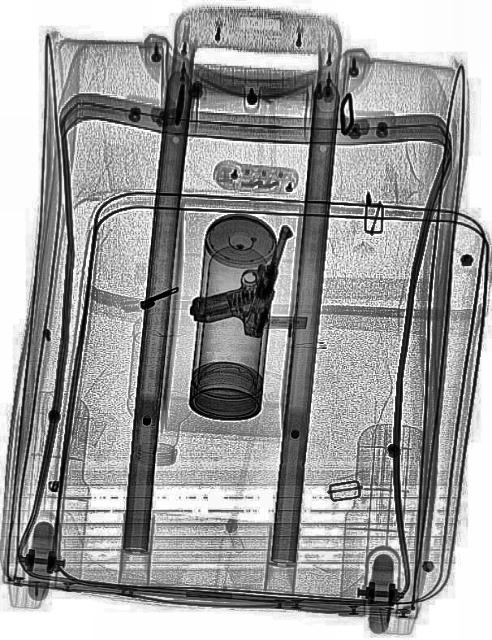Gun: (188, 201, 290, 341)
